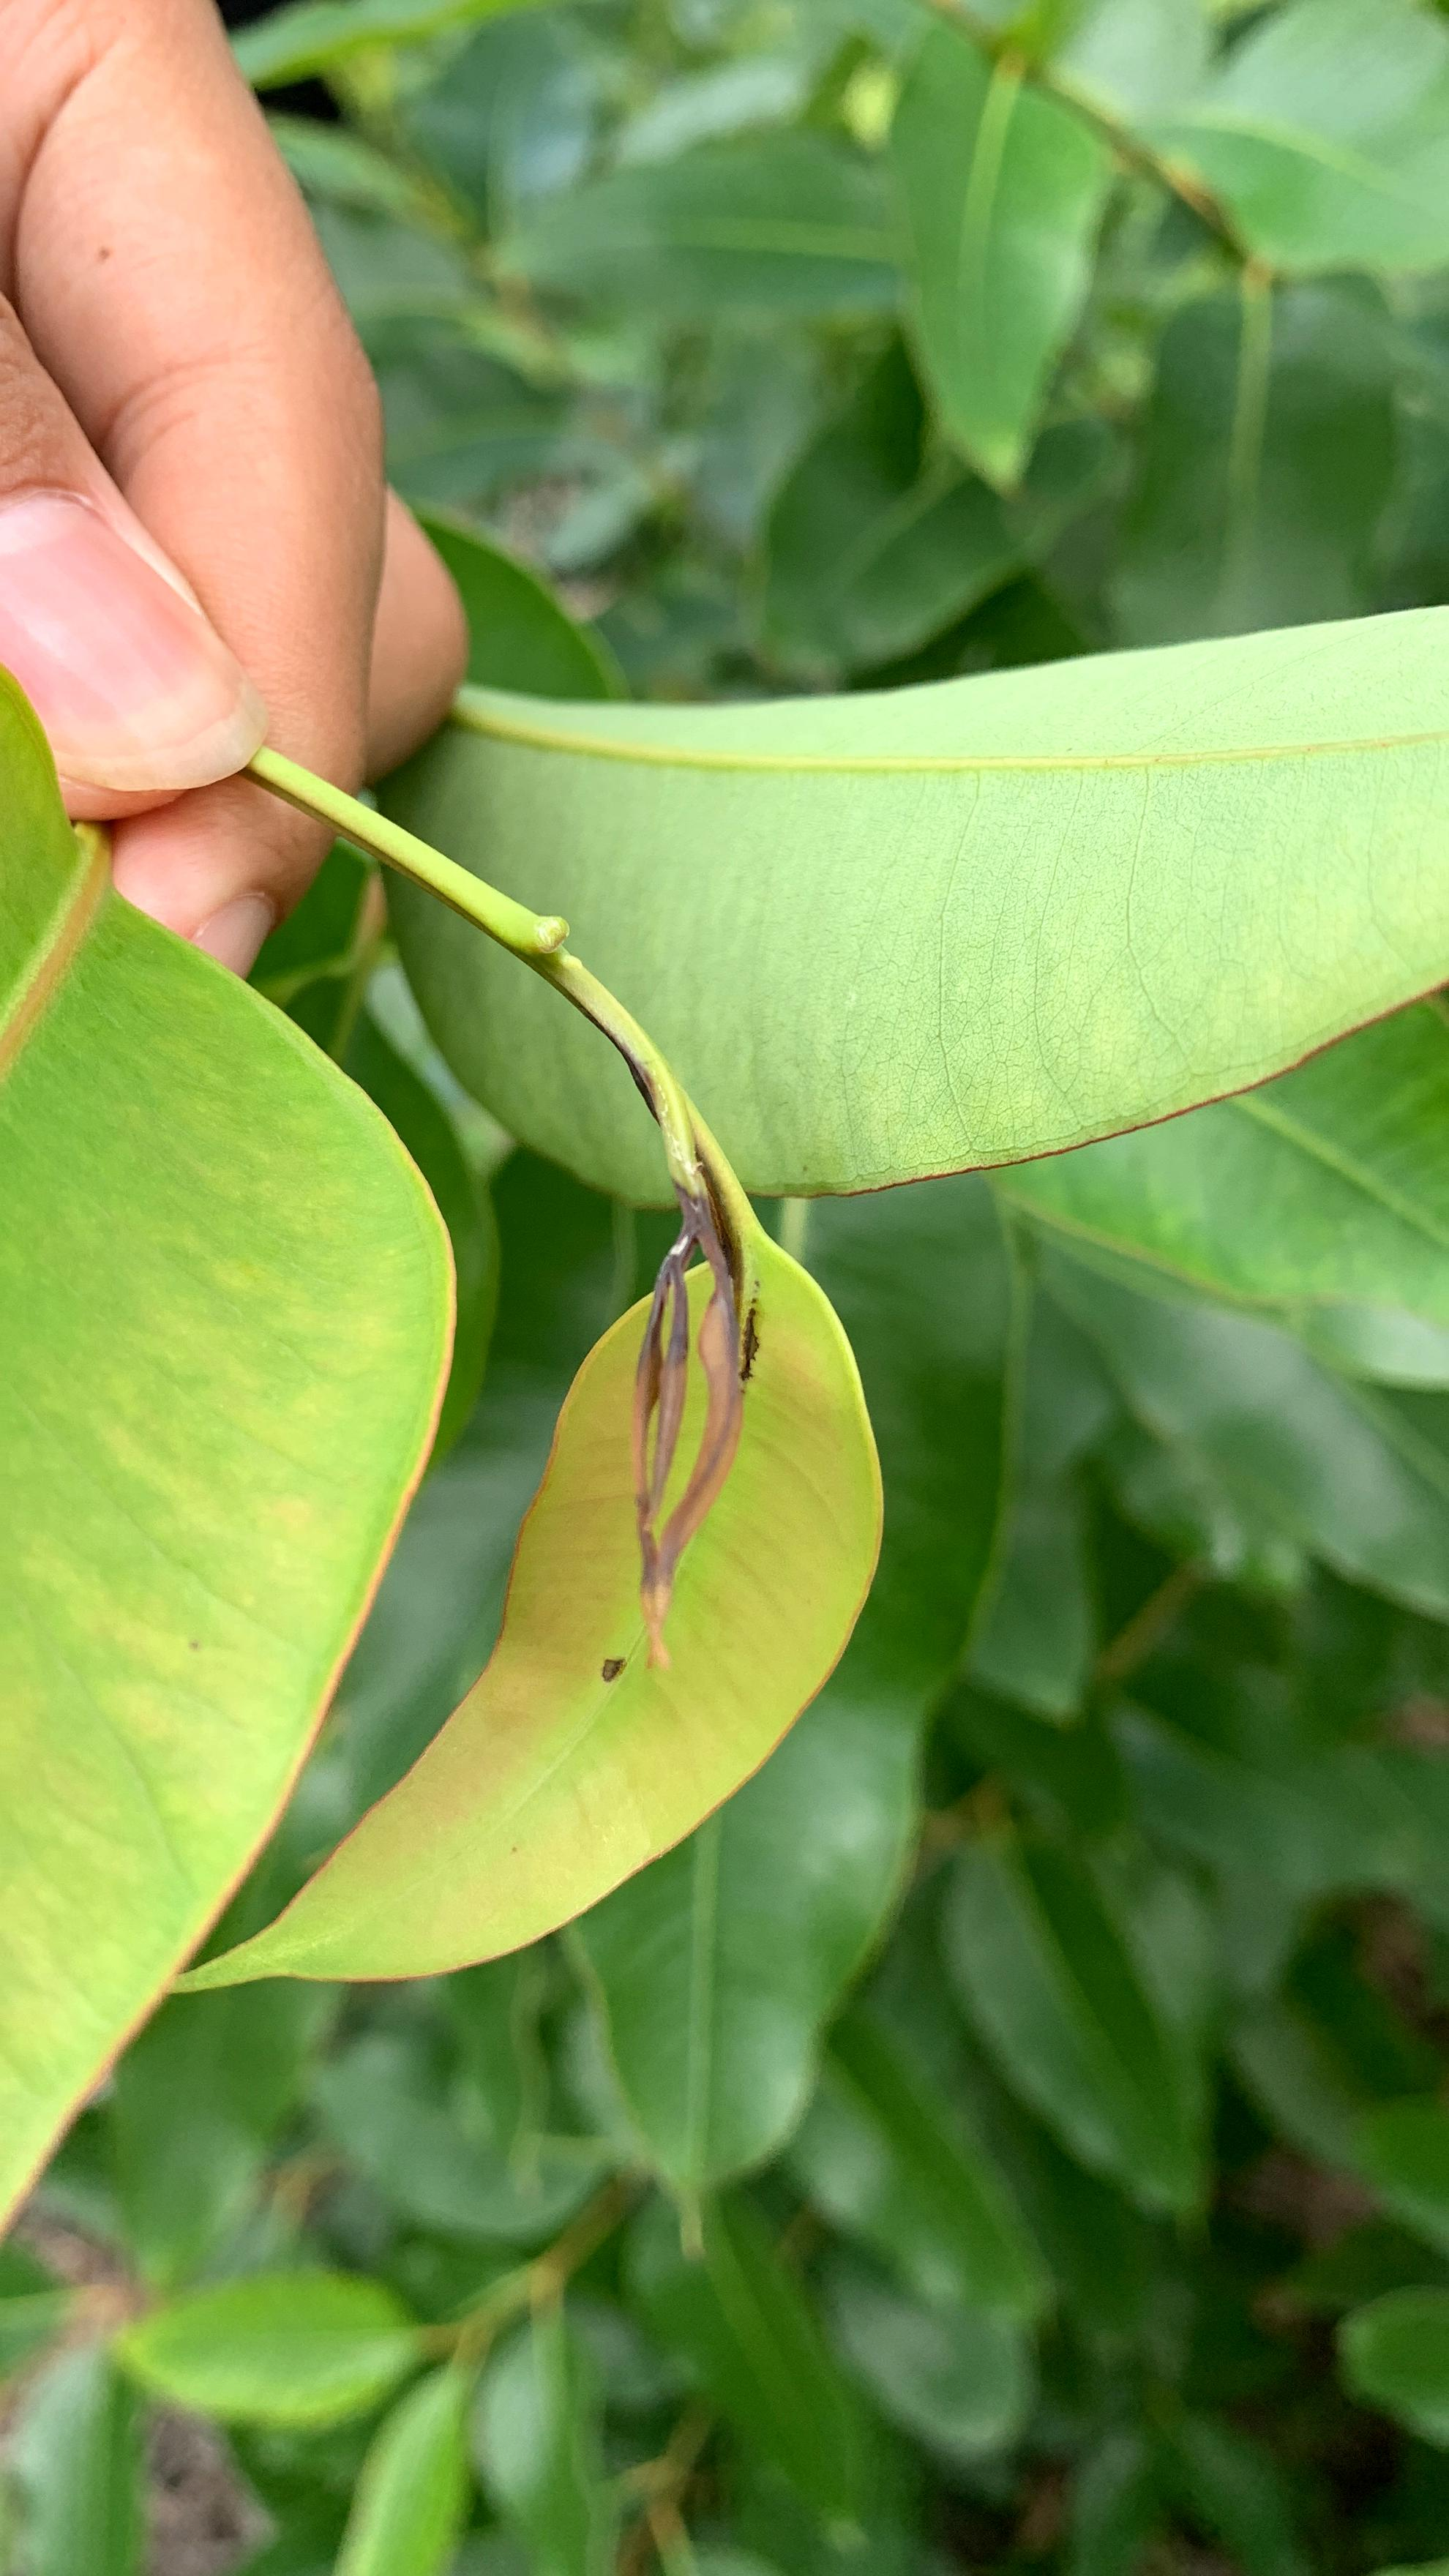Helopeltis-Withered Sprout: (564, 1077, 828, 1706)
